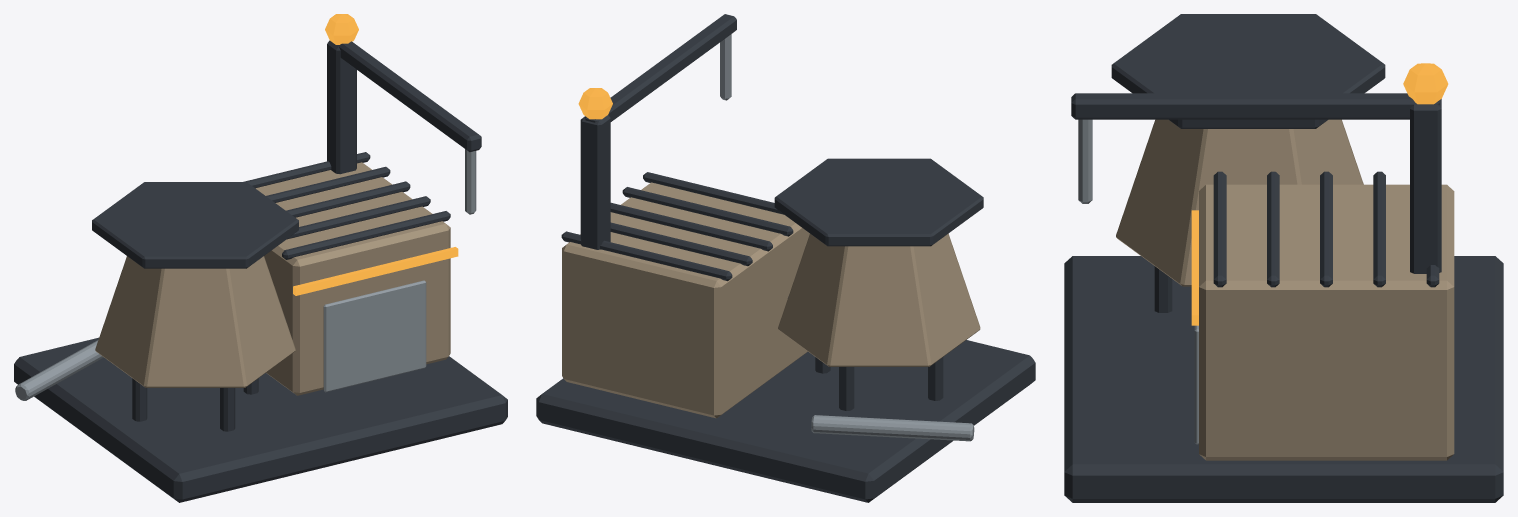
Rendered from exo-depot.glb.
3 renders of one model, left to right at view 1: azimuth 30°, elevation 25°; view 2: azimuth 150°, elevation 25°; view 3: azimuth 270°, elevation 25°, orthographic. The views are drawn at different scales.
Parts seen in each view (by area): view 1: body; view 2: body; view 3: body.
Boxes of the visible parts, x1=… form: body: x1=14, y1=14, x2=507, y2=502; body: x1=536, y1=14, x2=1035, y2=502; body: x1=1064, y1=14, x2=1503, y2=502.
Size of the model in its own units: 8.23 by 6.57 by 6.2.
